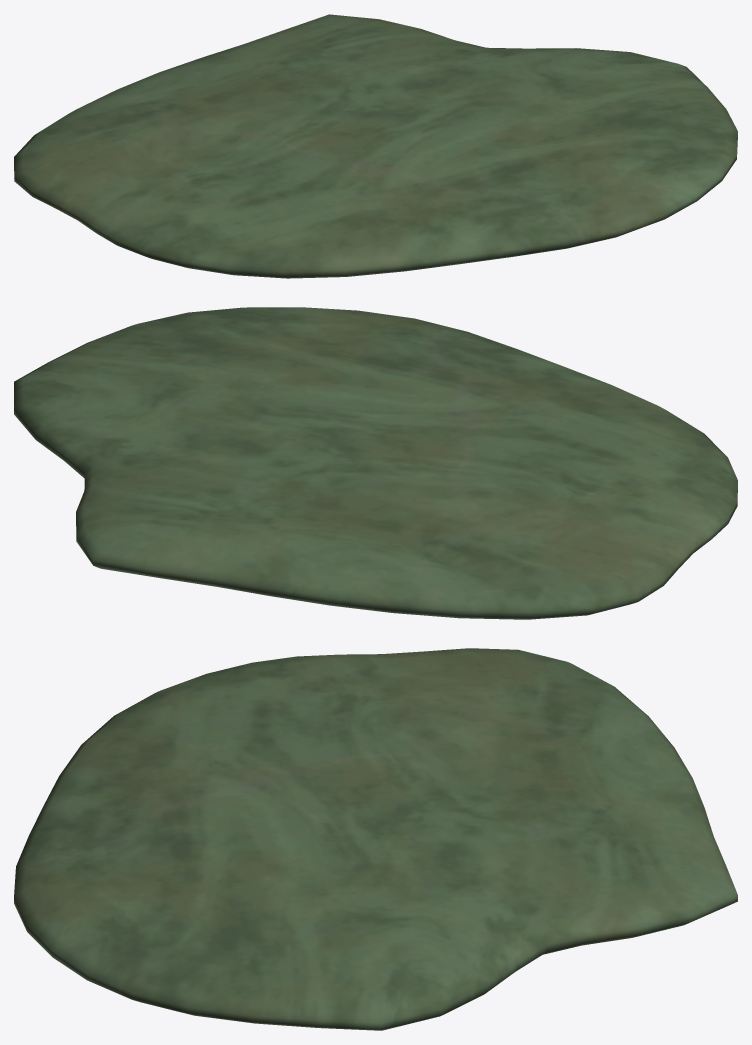
The model's file is jade_river_flat_06.glb.
3 renders of one model, top to bottom at view 1: azimuth 30°, elevation 25°; view 2: azimuth 150°, elevation 25°; view 3: azimuth 270°, elevation 25°, orthographic. The views are drawn at different scales.
Visible parts, largest first — view 1: jade_river_flat_06; view 2: jade_river_flat_06; view 3: jade_river_flat_06.
Part boxes in pixels (x1,y1,x2,y2): jade_river_flat_06: [14, 14, 737, 278]; jade_river_flat_06: [14, 307, 737, 619]; jade_river_flat_06: [14, 648, 737, 1030].
Bounding box in the file's own units: 0.0892 × 0.00697 × 0.0731.
1 material, 1 textured.
